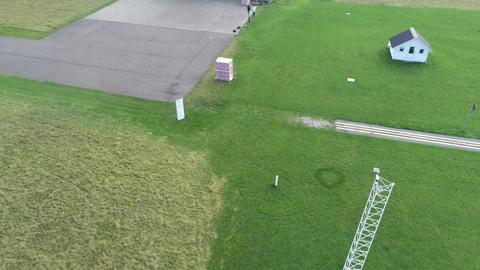RockwoolPallet: (216, 57, 234, 81)
